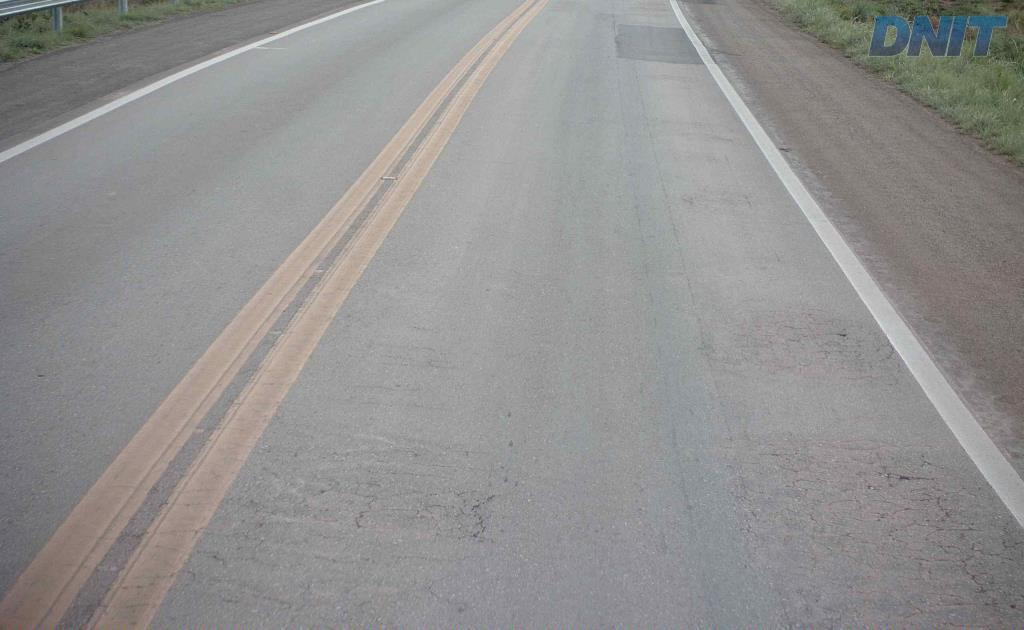crack: (910, 487, 956, 530), (453, 494, 495, 538), (207, 588, 244, 612)
